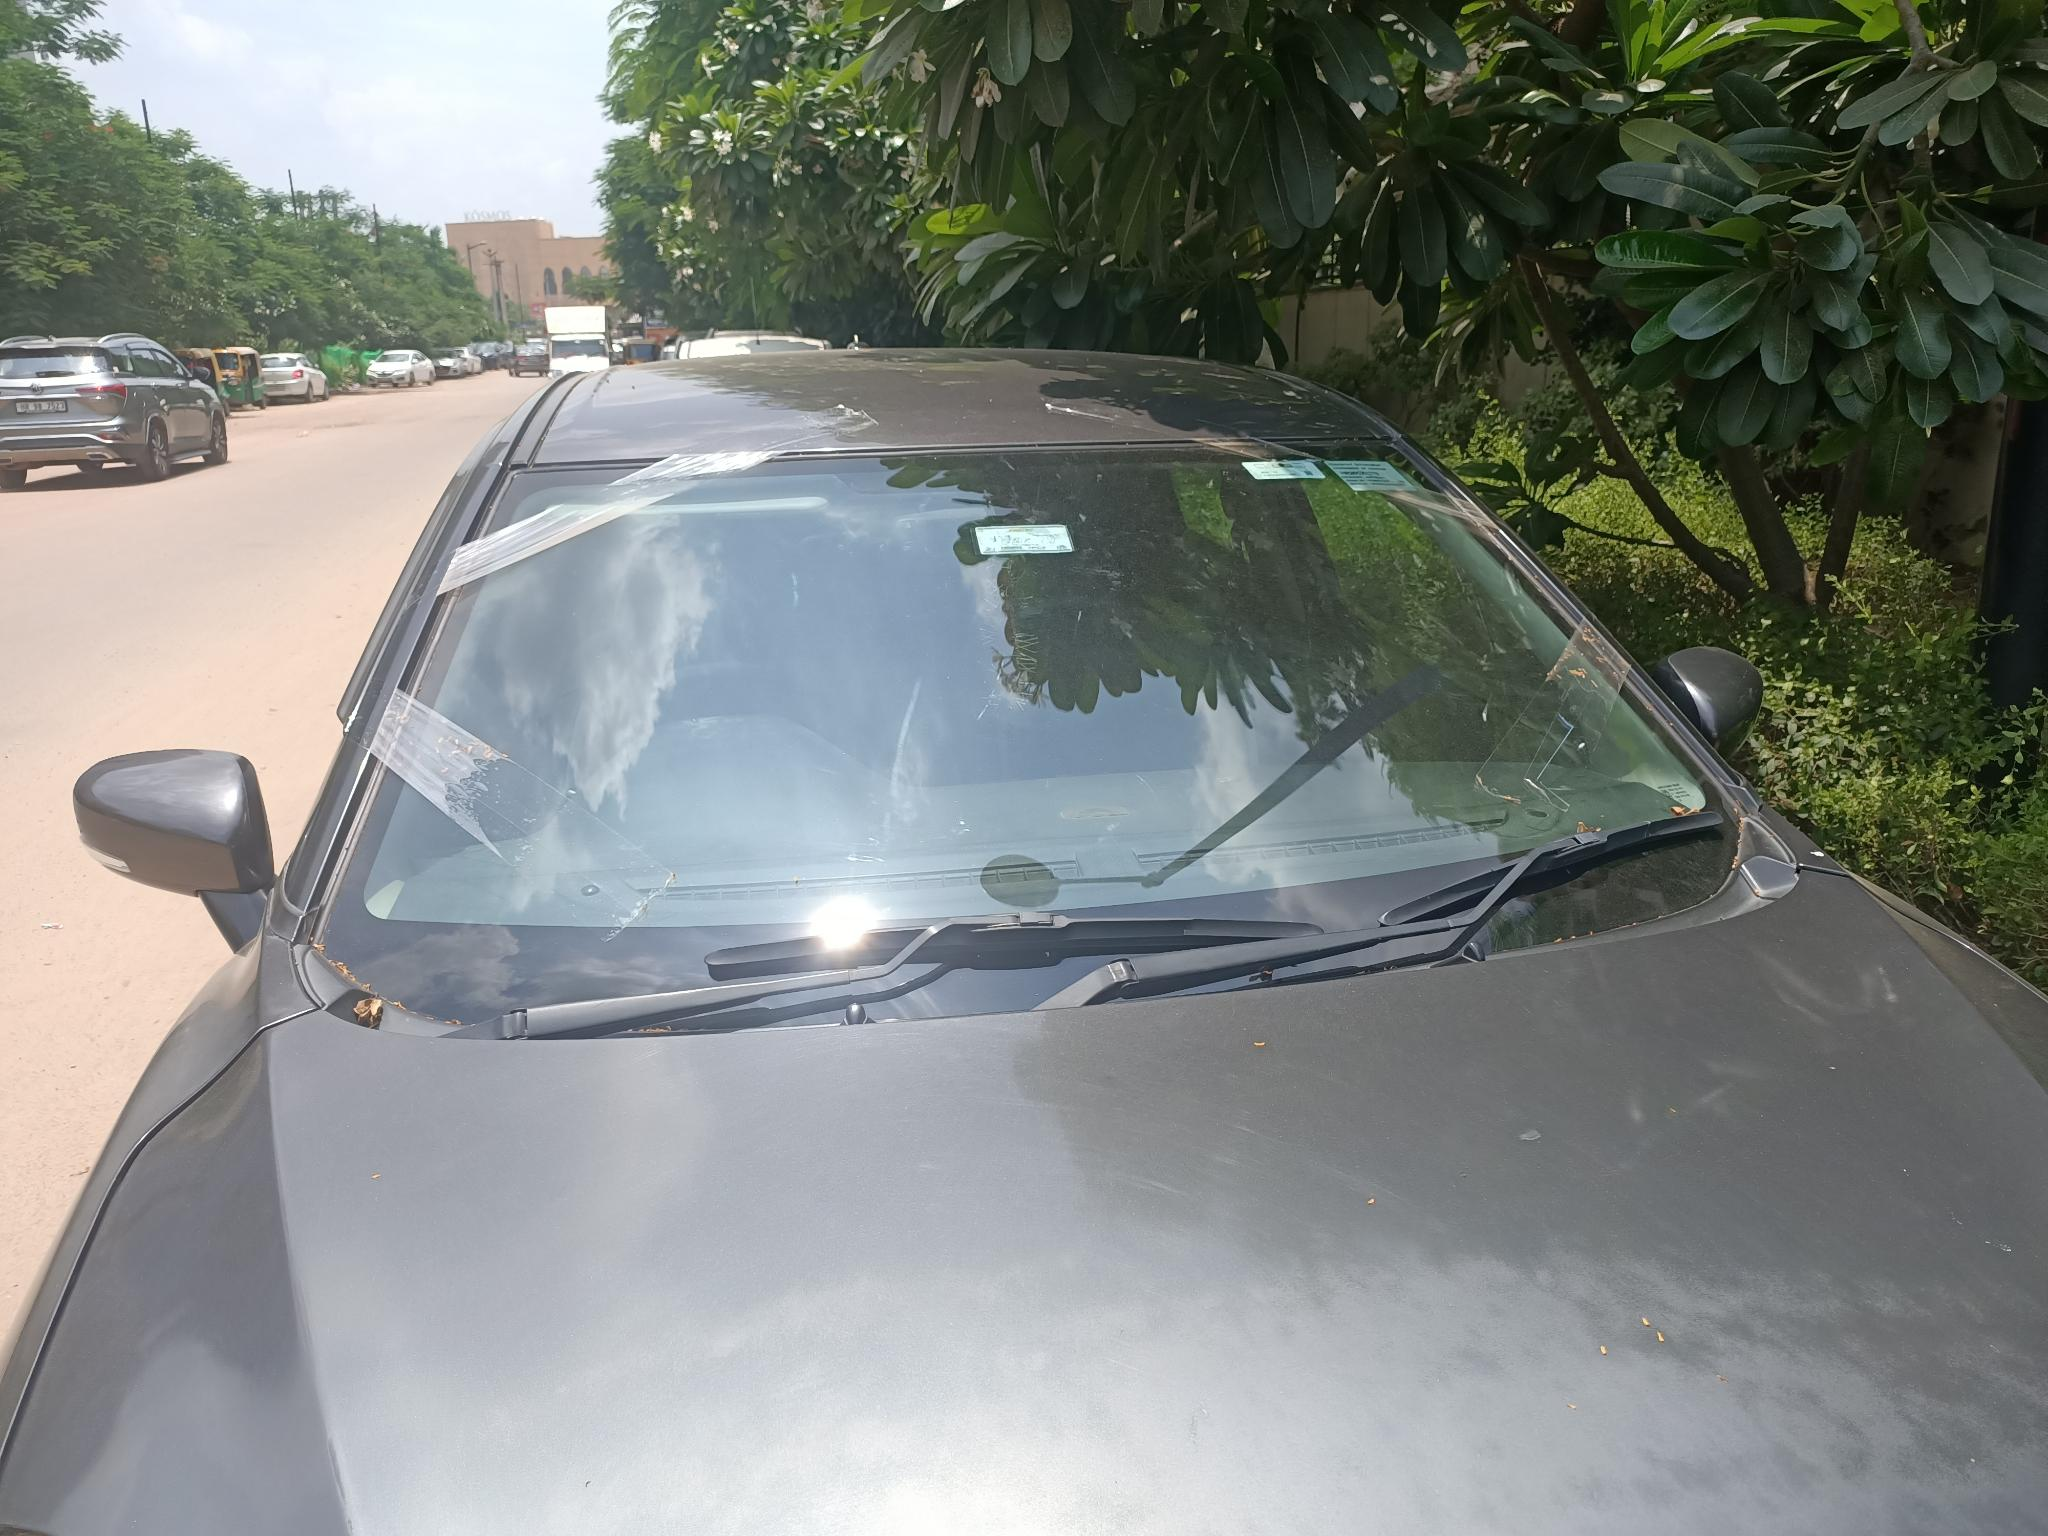FastTag: (951, 521, 1090, 568)
not a FastTag: (1338, 452, 1426, 502), (1237, 460, 1329, 499)
